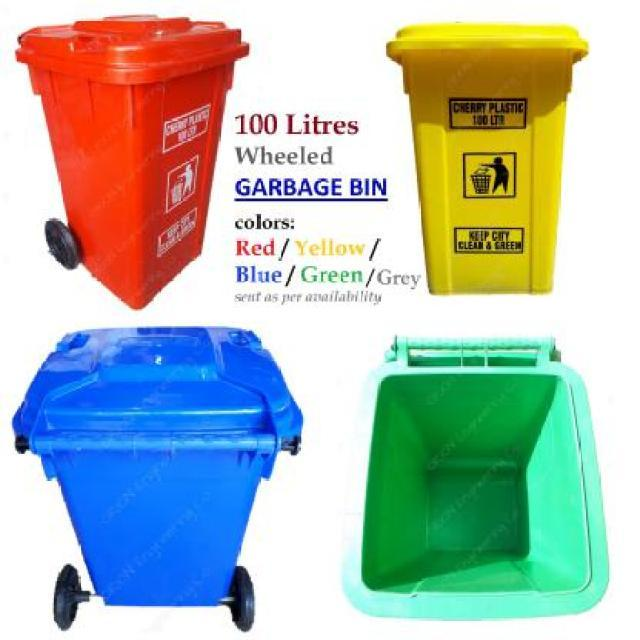garbage container: (6, 327, 315, 635), (331, 331, 624, 631), (11, 9, 264, 322), (380, 13, 605, 319)
